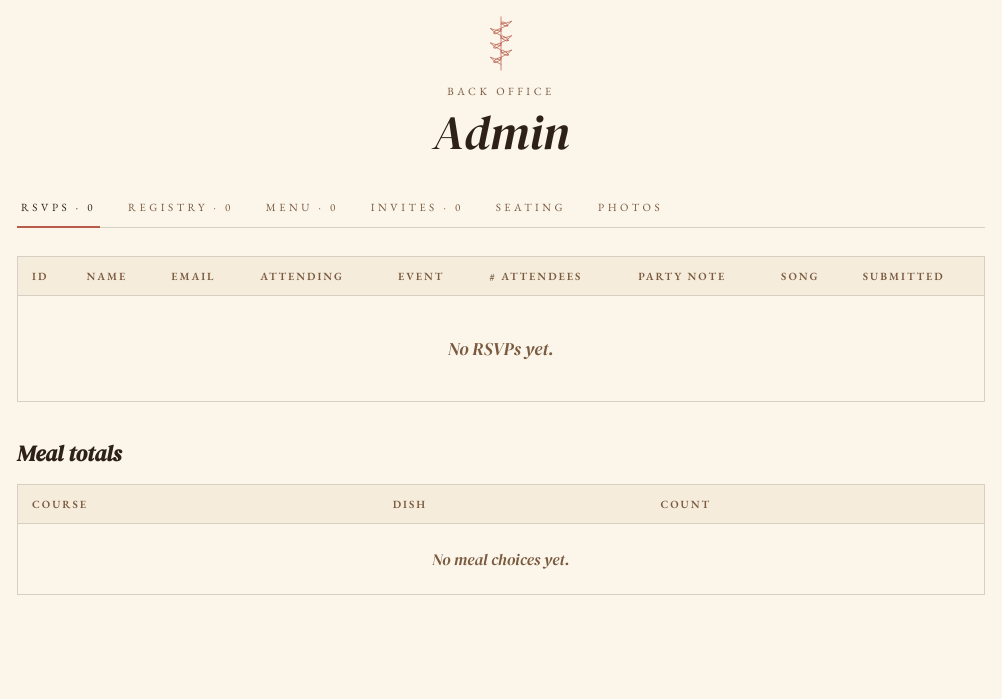
Test case: AdminDashboard — seating tab › clicking the SEATING tab renders the seating panel
This screenshot has width=1002, height=699.
Step 1. Click the button "SEATING" → click(531, 208), box [492,188,570,228]
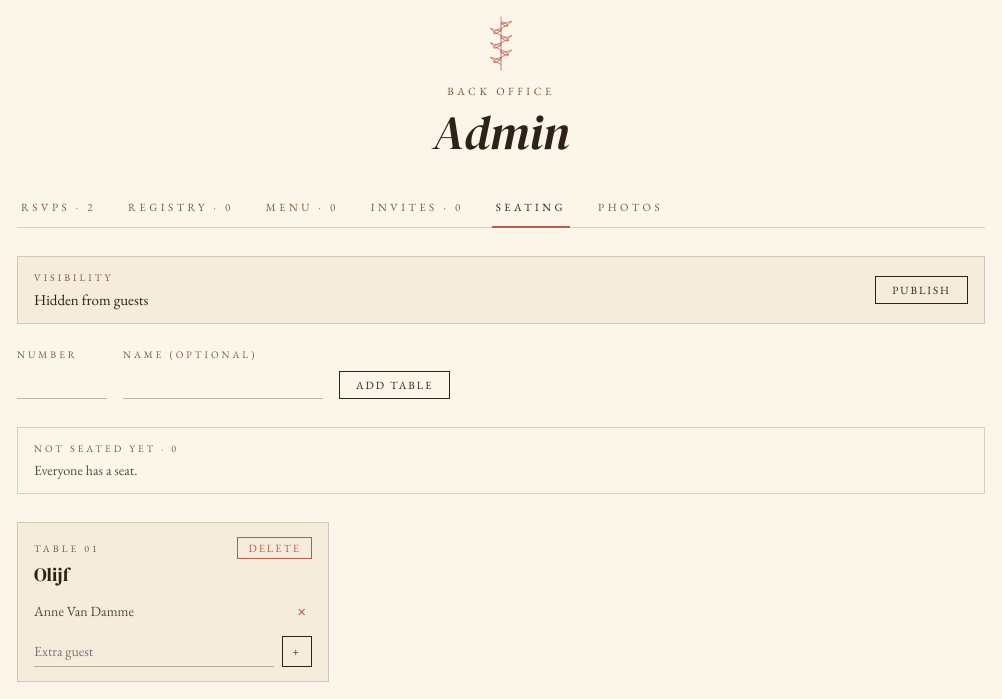
Check: the text "Table 01" is shown, box [34,542,100,555]
Check: the text "Olijf" is shown, box [34,561,69,587]
Check: the text "Anne Van Damme" is shown, box [34,602,134,620]
